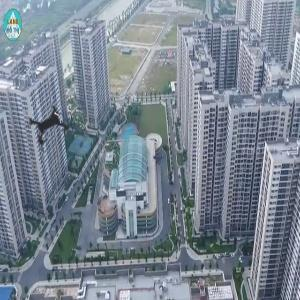drone: (8, 85, 95, 172)
